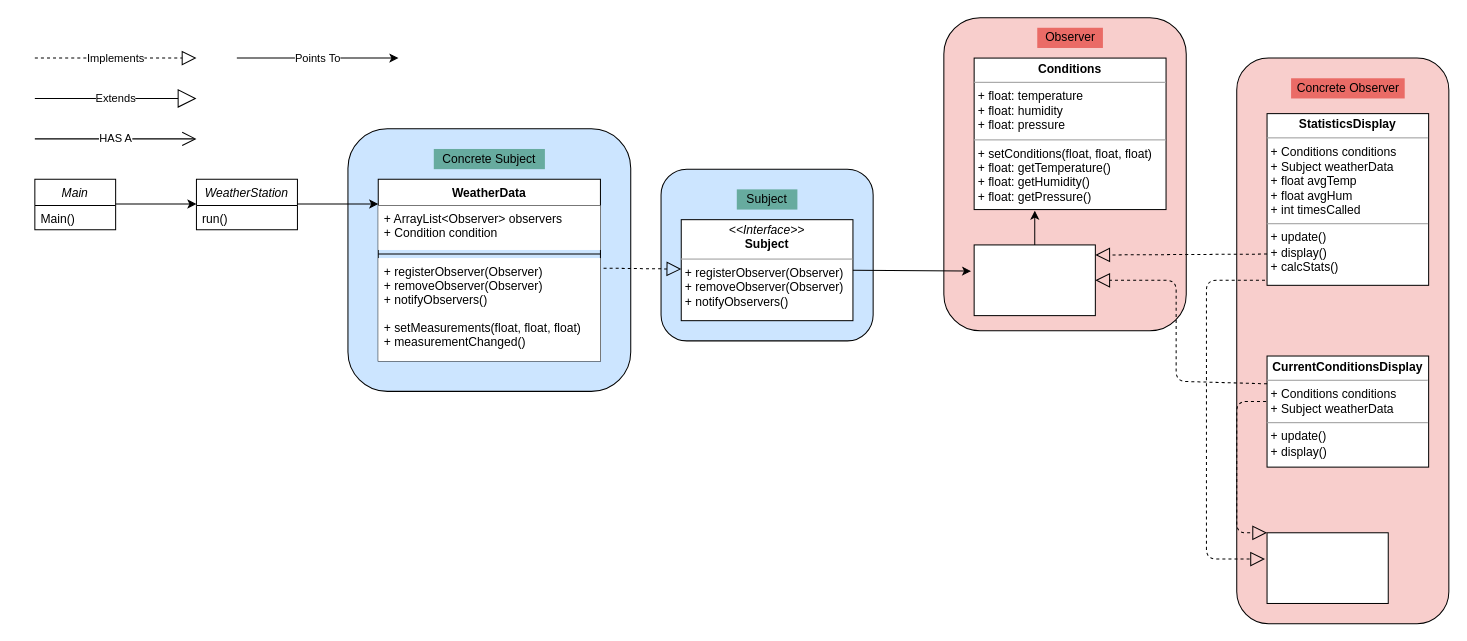
Image size: 1467x641. Some labels were removed from this diagram. The shapes that lost their labels are listed below. From the top down, each one's centre as x and y in pixels, then its label:
At pixel 1034 280: "<<Interface>> Observer + update(Conditions)".
At pixel 1327 567: "<<Interface>> DisplayElement + display()".
